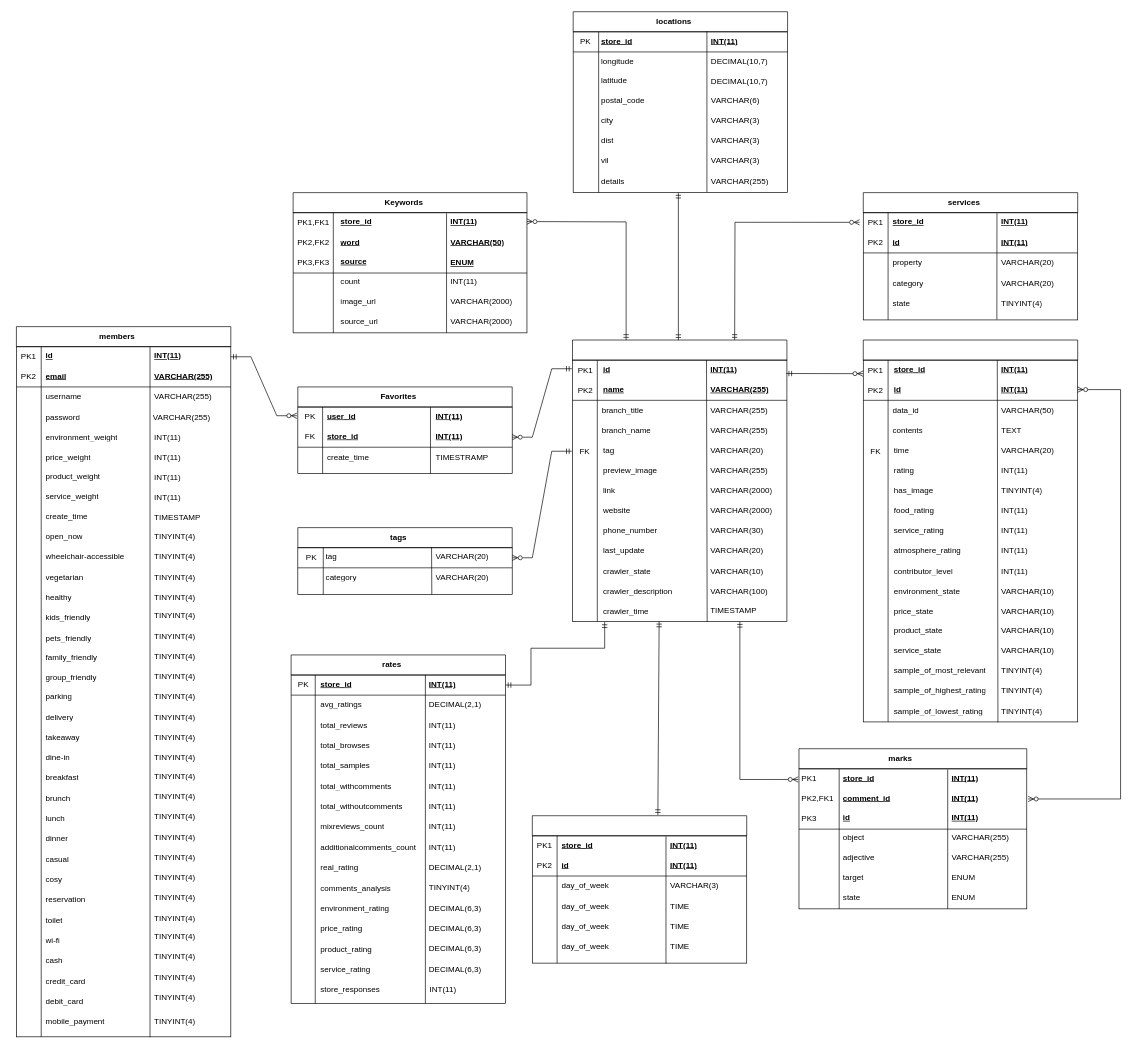
This 1138x1050 diagram has some shape labels left out. Each missing label, with the box of its shape:
Comments: (863, 339, 1078, 360)
openhours: (532, 815, 747, 836)
Stores: (572, 339, 787, 360)
